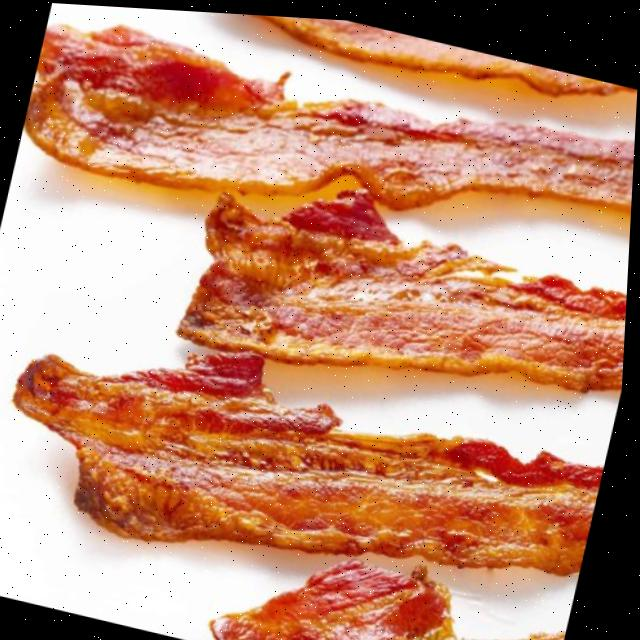Bacon: (18, 349, 608, 567), (27, 24, 636, 204), (181, 186, 630, 382), (218, 555, 571, 640)
